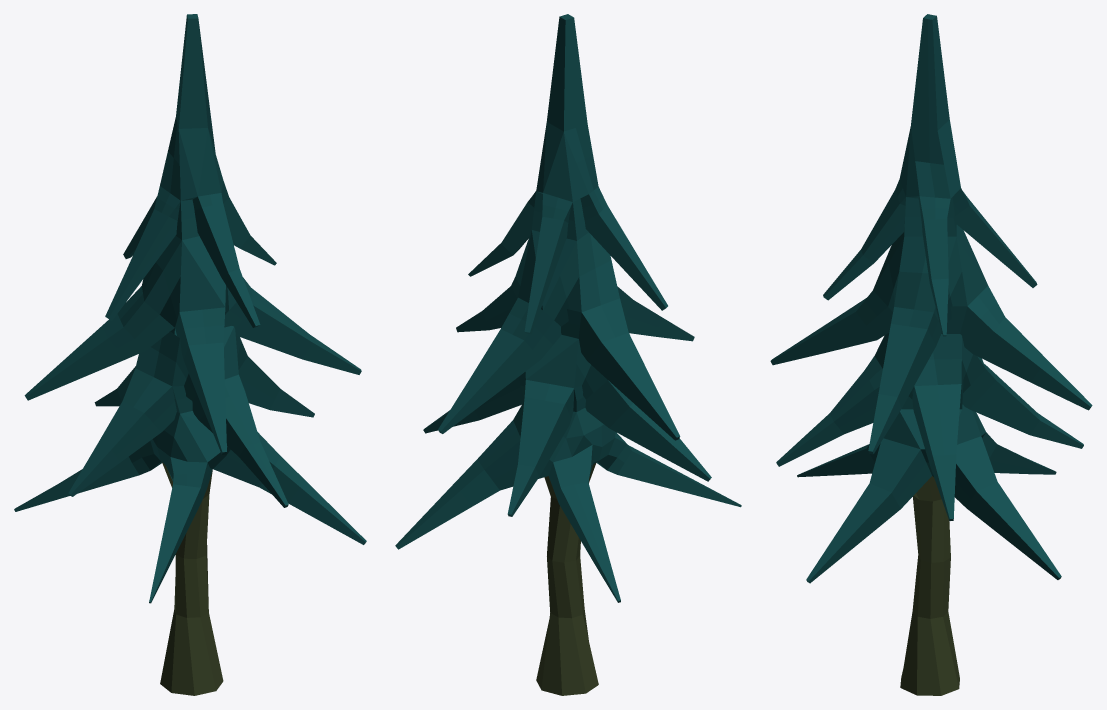
The model's file is tree3.fbx.
The picture shows the model from 3 angles, left to right: view 1: azimuth 30°, elevation 25°; view 2: azimuth 150°, elevation 25°; view 3: azimuth 270°, elevation 25°; orthographic projection.
Parts seen in each view (by area): view 1: Cube; view 2: Cube; view 3: Cube.
Part boxes in pixels (x1=…): Cube: x1=14, y1=14, x2=366, y2=695; Cube: x1=395, y1=14, x2=741, y2=695; Cube: x1=770, y1=14, x2=1092, y2=695.
Bounding box in the file's own units: 3.06 × 6.97 × 3.05.
